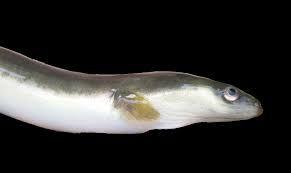Freshwater Eel: (0, 43, 263, 135)
